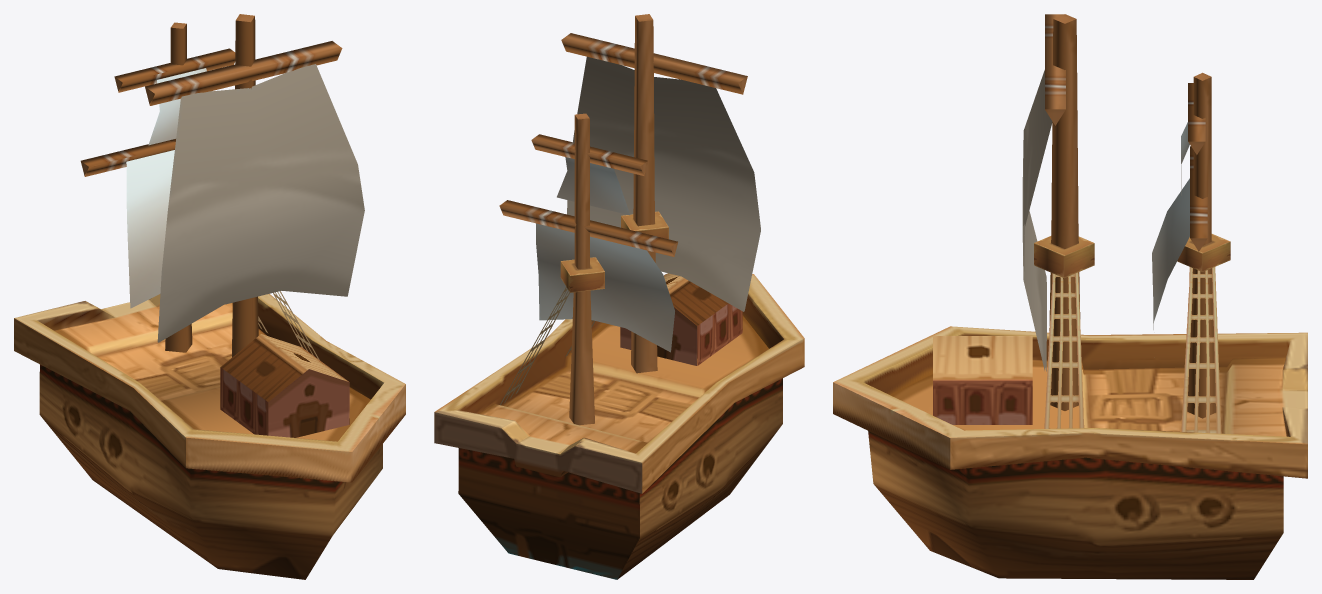
Rendered from Chapter2Scene1Chuan.FBX.
3 views of the same model, side by side, from view 1: azimuth 30°, elevation 25°; view 2: azimuth 150°, elevation 25°; view 3: azimuth 270°, elevation 25° (orthographic). The views are drawn at different scales.
Parts seen in each view (by area): view 1: Chapter2Scene1Chuan; view 2: Chapter2Scene1Chuan; view 3: Chapter2Scene1Chuan.
Part boxes in pixels (<box>): Chapter2Scene1Chuan: <box>14,14,405,579</box>; Chapter2Scene1Chuan: <box>434,14,804,579</box>; Chapter2Scene1Chuan: <box>833,14,1307,579</box>.
Size of the model in its own units: 75.89 by 136 by 169.
